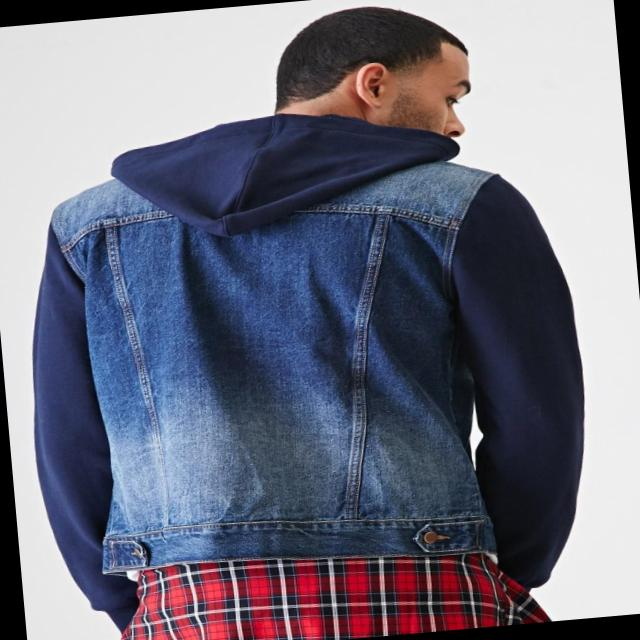Jacket: (4, 109, 604, 603)
